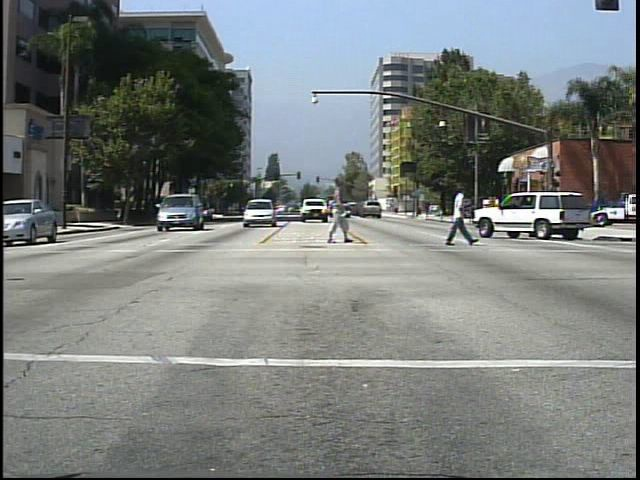person: (442, 178, 479, 254), (316, 176, 353, 250)
